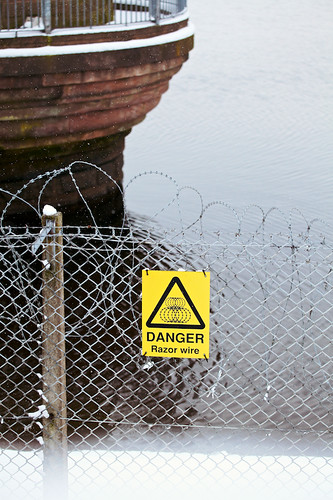barbed wire: (19, 151, 333, 314)
river: (156, 1, 333, 239)
sign: (131, 265, 228, 358)
